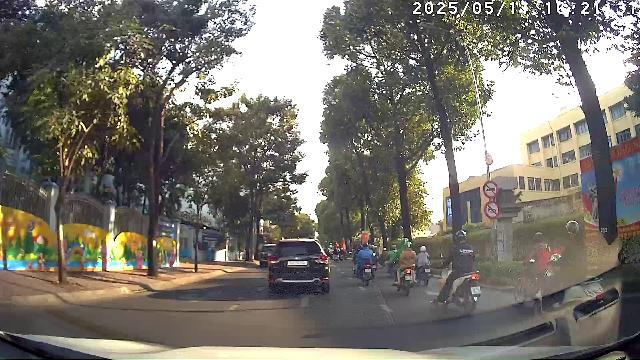128-cam-su-dung-coi: (484, 201, 500, 219)
